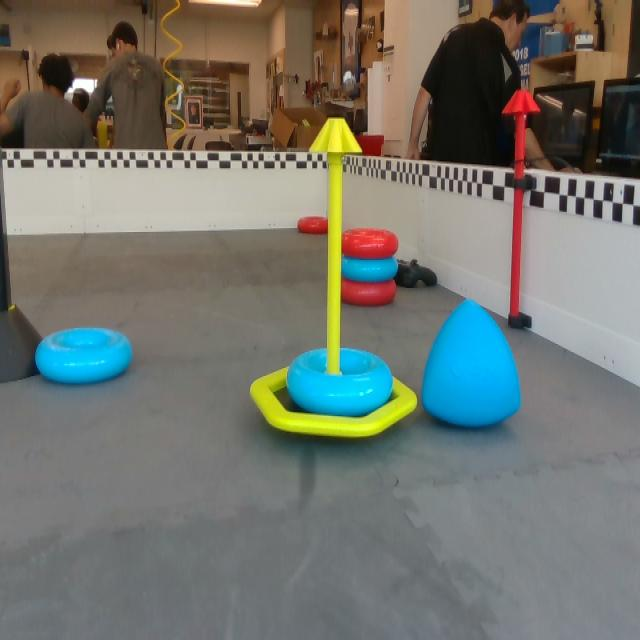Blue-Ring: (285, 348, 393, 417), (35, 328, 133, 385), (342, 256, 400, 283)
Mobile-Goal: (246, 116, 424, 444)
Red-Ring: (342, 269, 396, 307), (343, 228, 399, 261), (298, 216, 328, 233)
Yellow-Stake-Head: (308, 116, 364, 157)
zred-Stake-Head: (502, 88, 540, 115)
